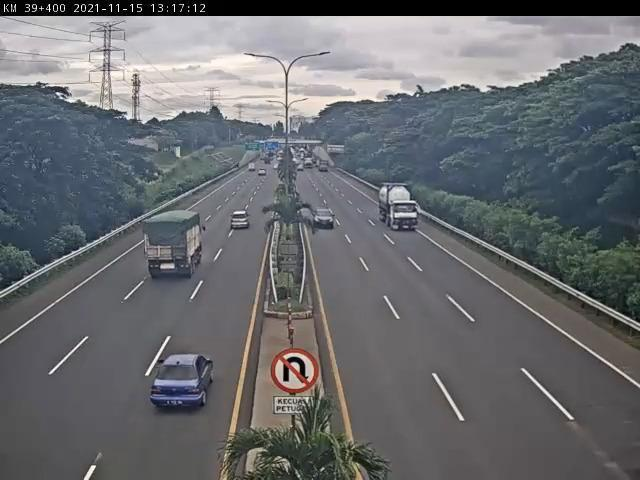car: (150, 352, 217, 408), (313, 207, 338, 232), (230, 210, 252, 232)
truck: (146, 210, 205, 282), (377, 181, 422, 234)
